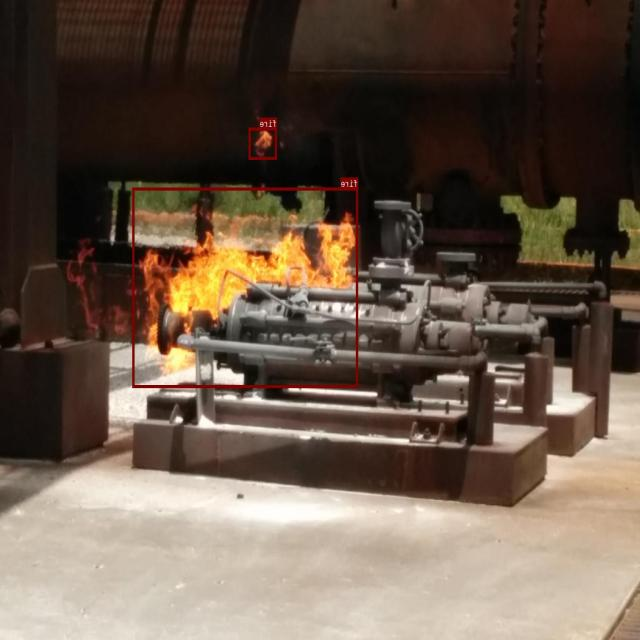fire: (133, 187, 358, 387), (249, 127, 277, 159)
